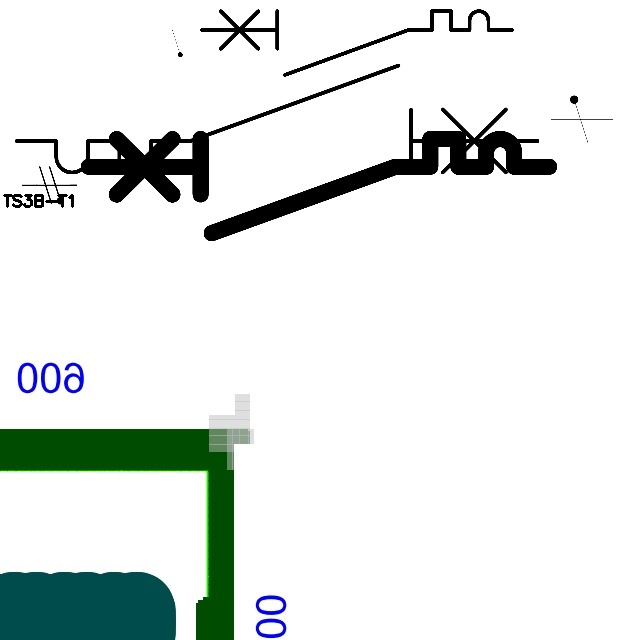interruptor_termomagnetico: (3, 52, 551, 186), (76, 127, 560, 245), (193, 3, 519, 82)
